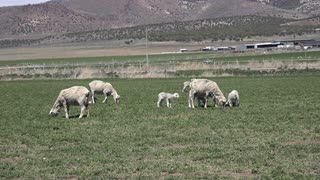sheep: (48, 85, 91, 118), (187, 78, 227, 109), (88, 79, 121, 106), (157, 91, 180, 107), (228, 89, 239, 106), (182, 80, 191, 92)
